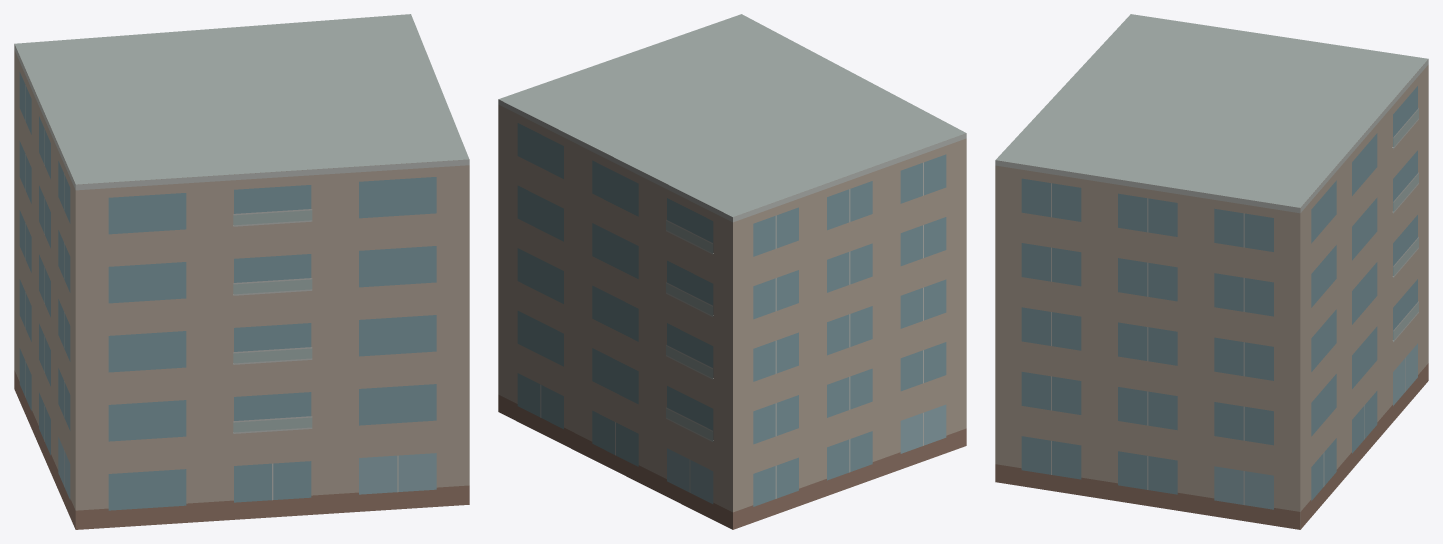
The model's file is survey-upis-32852689.glb.
3 views of the same model, side by side, from view 1: azimuth 30°, elevation 25°; view 2: azimuth 150°, elevation 25°; view 3: azimuth 270°, elevation 25° (orthographic). The views are drawn at different scales.
Visible parts, largest first — view 1: survey-upis-32852689.tmp; view 2: survey-upis-32852689.tmp; view 3: survey-upis-32852689.tmp.
Part boxes in pixels (x1,y1,x2,y2): survey-upis-32852689.tmp: (14,14,469,529); survey-upis-32852689.tmp: (498,14,966,529); survey-upis-32852689.tmp: (995,14,1428,529).
Bounding box in the file's own units: 18.74 × 14.5 × 17.69.
